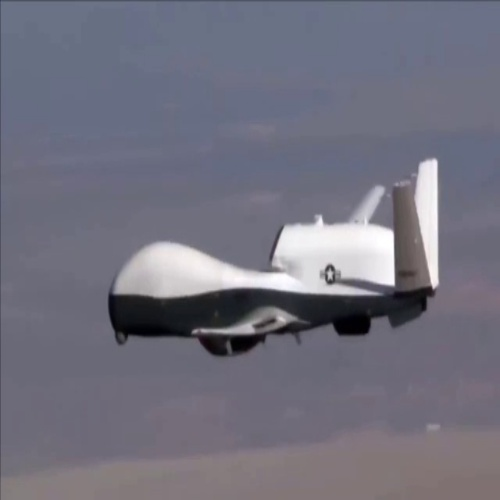uav: (102, 153, 444, 361)
